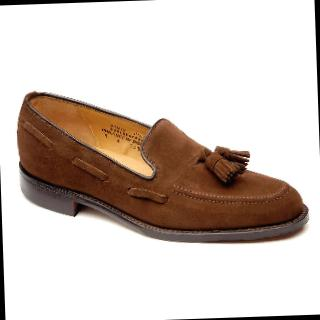loafers: (3, 66, 316, 264)
